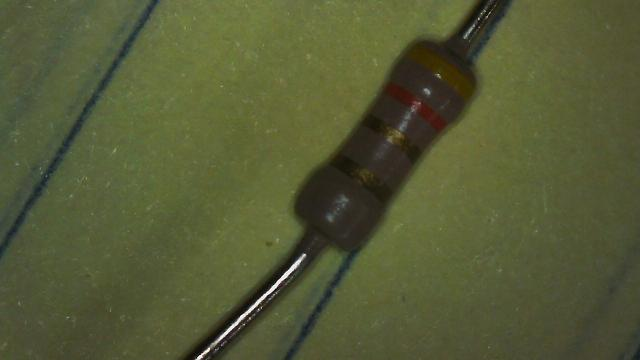gold: (332, 154, 392, 200), (363, 114, 420, 160)
orange: (384, 82, 446, 130)
resistor: (245, 16, 516, 266)
yellow: (404, 46, 474, 100)
